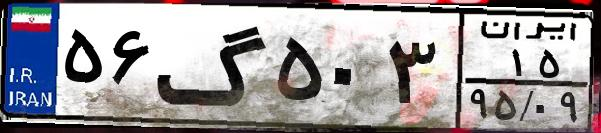0: (330, 28, 385, 110), (535, 70, 560, 125)
1: (508, 27, 537, 80)
3: (385, 28, 445, 110)
5: (270, 28, 330, 110), (57, 26, 110, 100), (537, 27, 568, 80), (495, 70, 520, 125)
6: (110, 28, 156, 98)
9: (560, 70, 590, 125), (470, 70, 495, 125)
گ: (156, 12, 270, 120)
